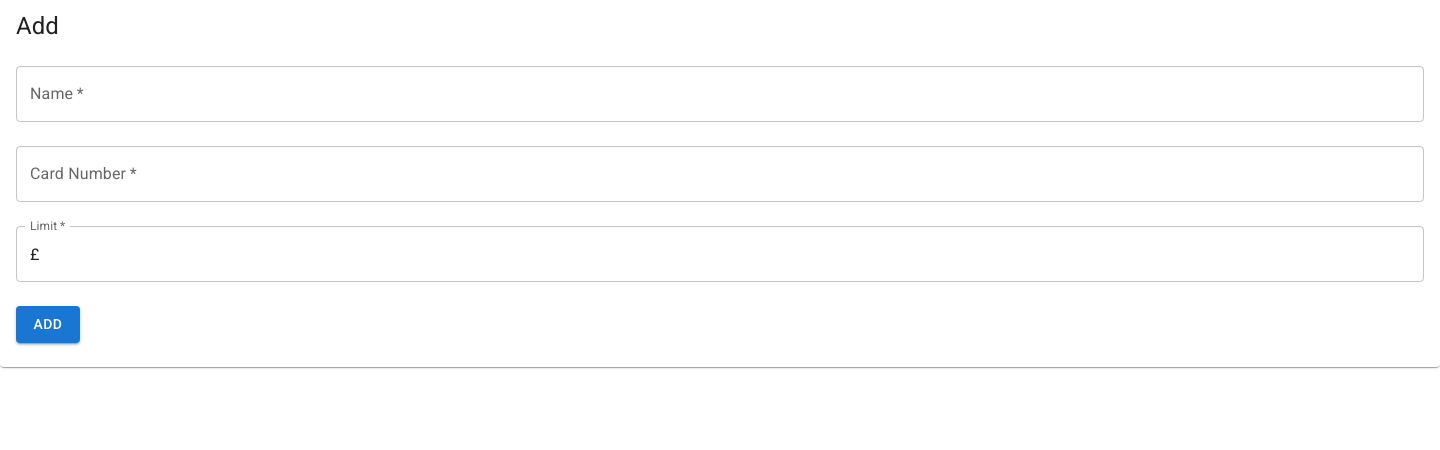
Test: CreditCardForm › handles API error correctly
Note: Fill in the form
Type "John Doe" into the field labelled "Name *" at (720, 94), box [16,66,1424,122]
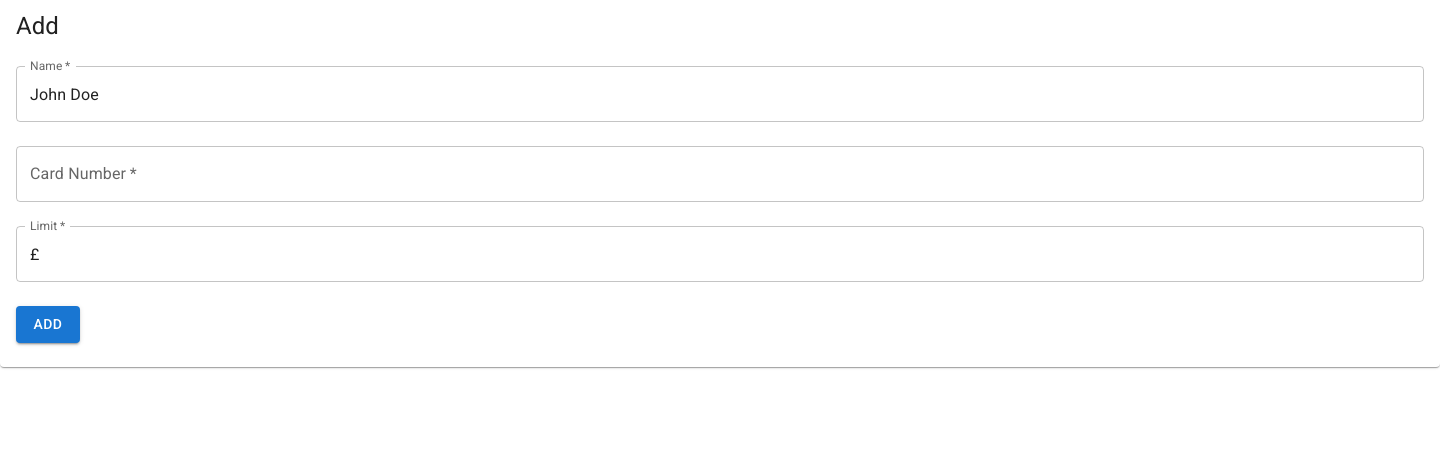
Type "1234" into the field labelled "Card Number *" at (720, 174), box [16,146,1424,202]
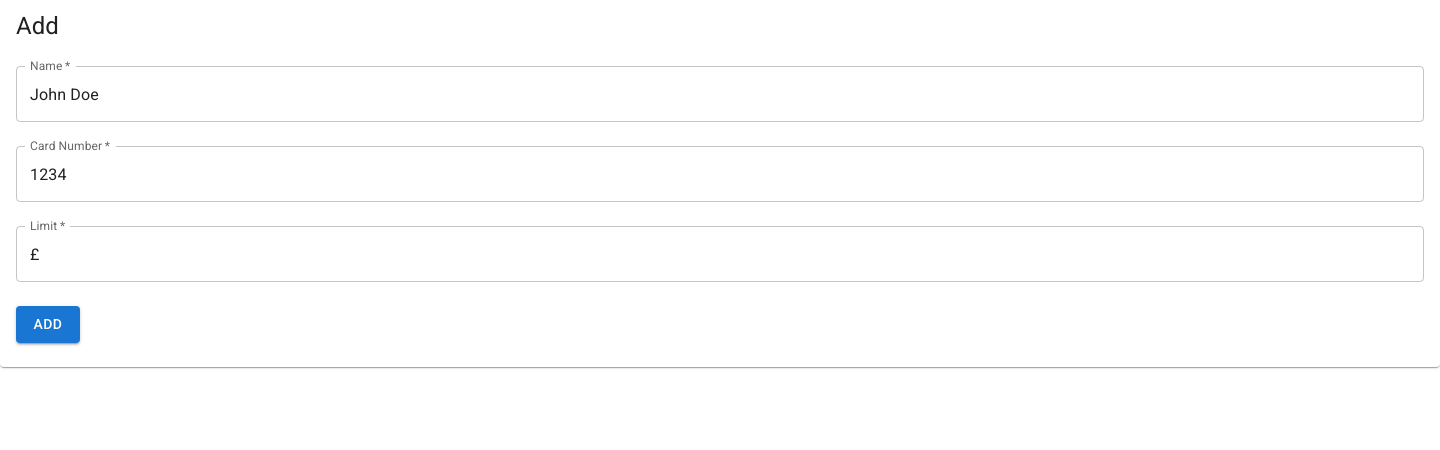
Type "1000" into the number field labelled "Limit *" at (732, 254), box [40,226,1424,282]
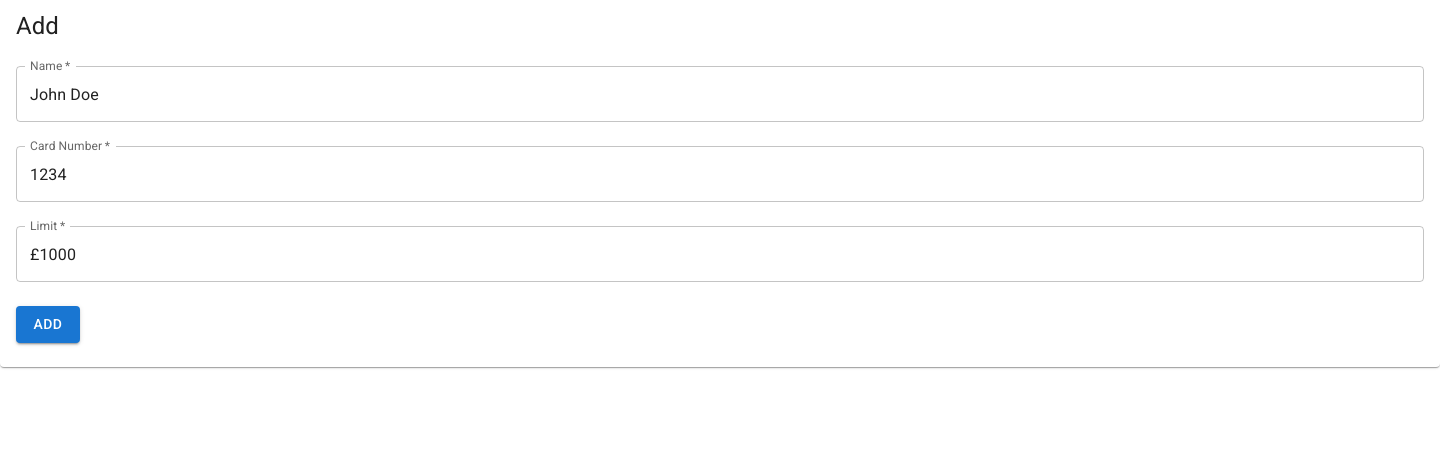
Note: Submit the form
Click the button "Add" at (48, 325), box [16,306,80,343]
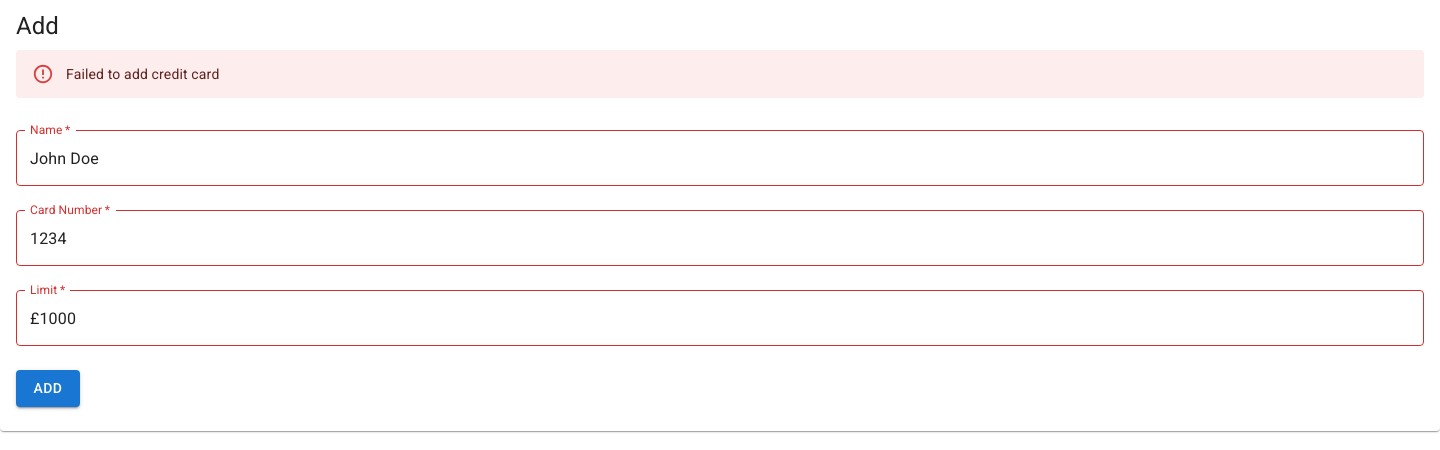
Expected: the text "Failed to add credit card" is shown, [66,66,219,82]
